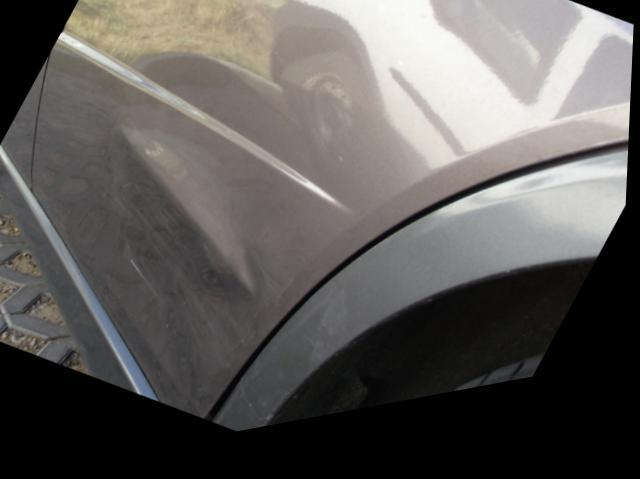dent: (114, 52, 321, 401)
